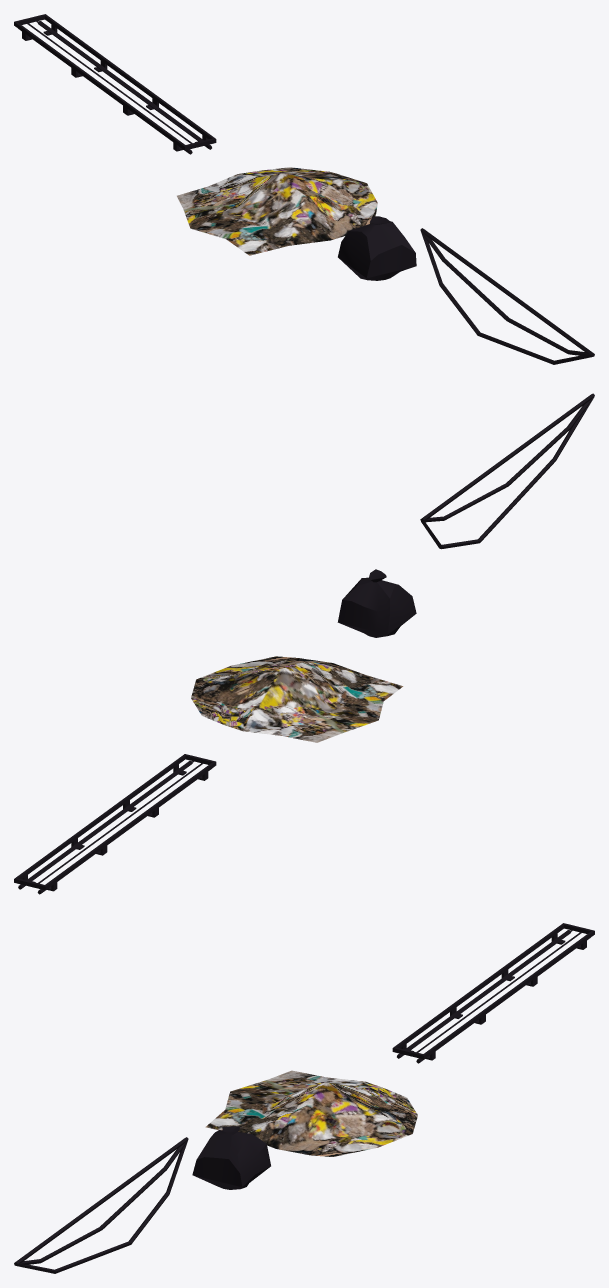
The model's file is props.fbx.
The picture shows the model from 3 angles, top to bottom: view 1: azimuth 30°, elevation 25°; view 2: azimuth 150°, elevation 25°; view 3: azimuth 330°, elevation 25°; orthographic projection.
Visible parts, largest first — view 1: Plane, bracket_0, bag_0, wire_2; view 2: Plane, bracket_0, bag_0, wire_2; view 3: Plane, bracket_0, bag_0, wire_2.
Part boxes in pixels (left/top/right/bottom): Plane: left=177, top=167, right=377, bottom=255; bracket_0: left=14, top=14, right=216, bottom=154; bag_0: left=338, top=216, right=416, bottom=280; wire_2: left=420, top=228, right=594, bottom=364; Plane: left=191, top=656, right=403, bottom=742; bracket_0: left=14, top=754, right=216, bottom=894; bag_0: left=337, top=569, right=416, bottom=637; wire_2: left=420, top=393, right=594, bottom=549; Plane: left=205, top=1070, right=417, bottom=1156; bracket_0: left=392, top=923, right=594, bottom=1063; bag_0: left=192, top=1126, right=270, bottom=1189; wire_2: left=14, top=1137, right=188, bottom=1273.
Bounding box in the file's own units: 364 × 170 × 1978.
1 material, 1 textured.
